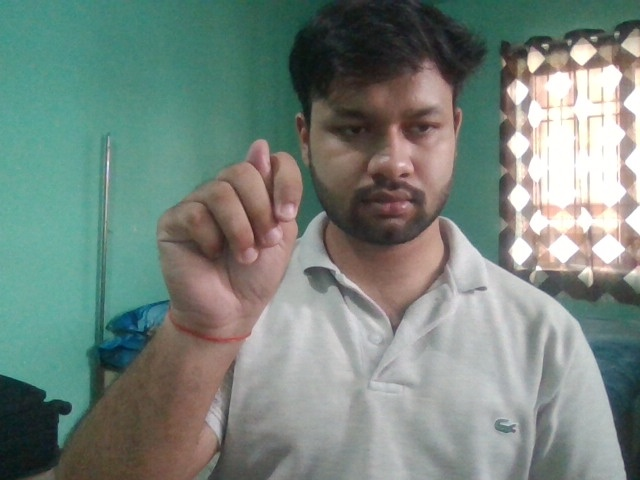Bathroom: (155, 138, 304, 323)
